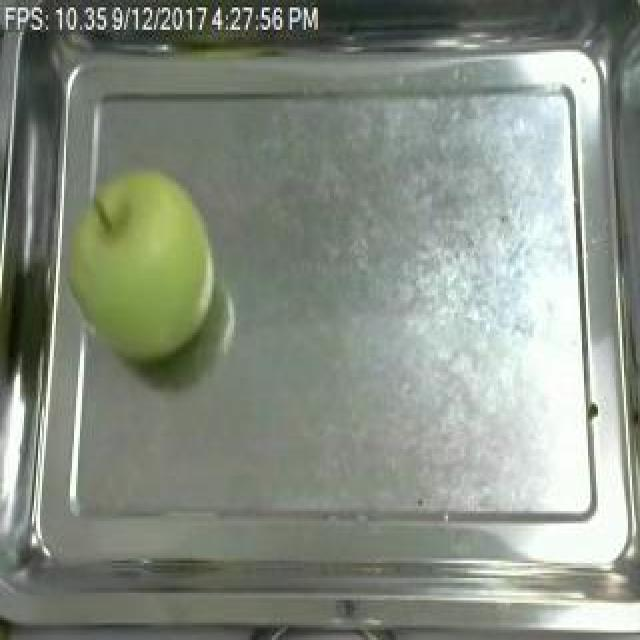Rotten Apple: (60, 167, 230, 376)
